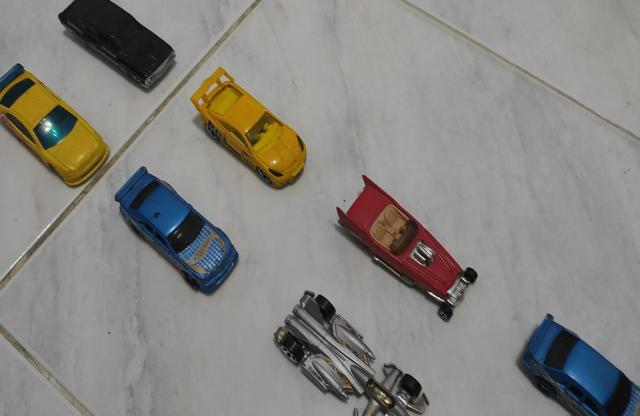01_FORD: (56, 0, 178, 94)
02_OZSOME: (0, 64, 111, 190)
03_V8: (335, 176, 478, 322)
04_MERZEDES: (113, 167, 241, 297), (517, 314, 640, 416)
05_DC121: (273, 291, 430, 416)
07_RHLTURBO: (189, 67, 309, 191)
